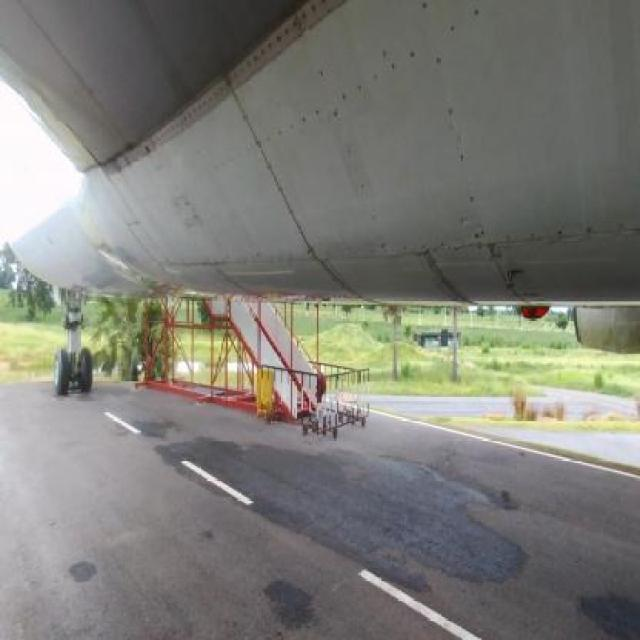Missing-Rivet: (430, 51, 493, 244), (497, 223, 640, 262), (352, 51, 453, 85), (262, 98, 370, 128)
